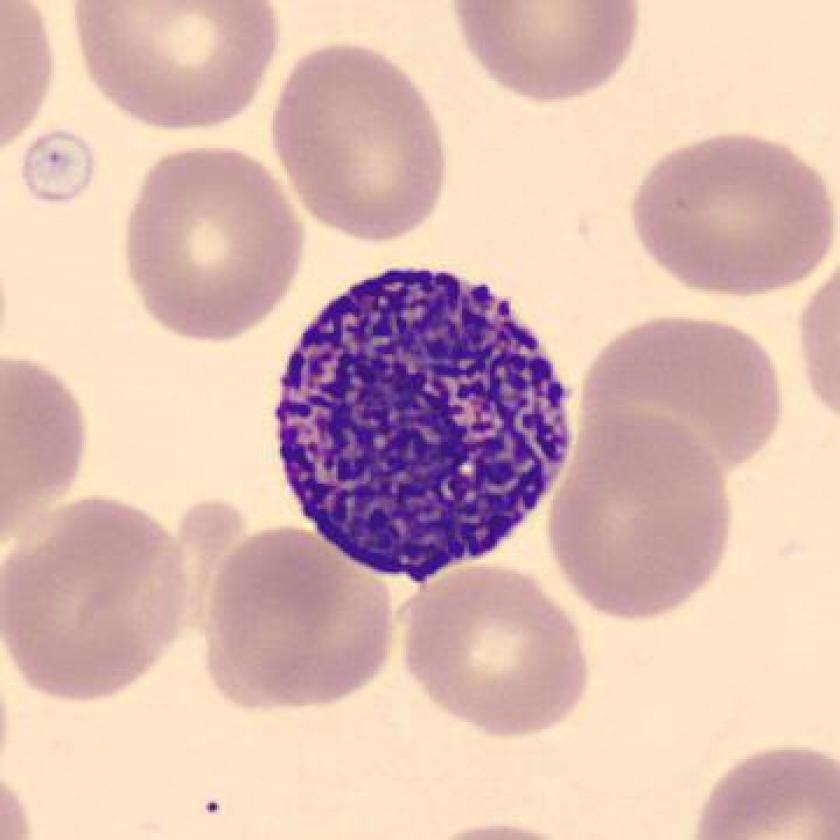basophil: (274, 265, 584, 591)
